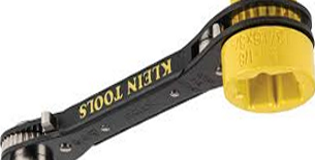wrench: (11, 3, 315, 152)
